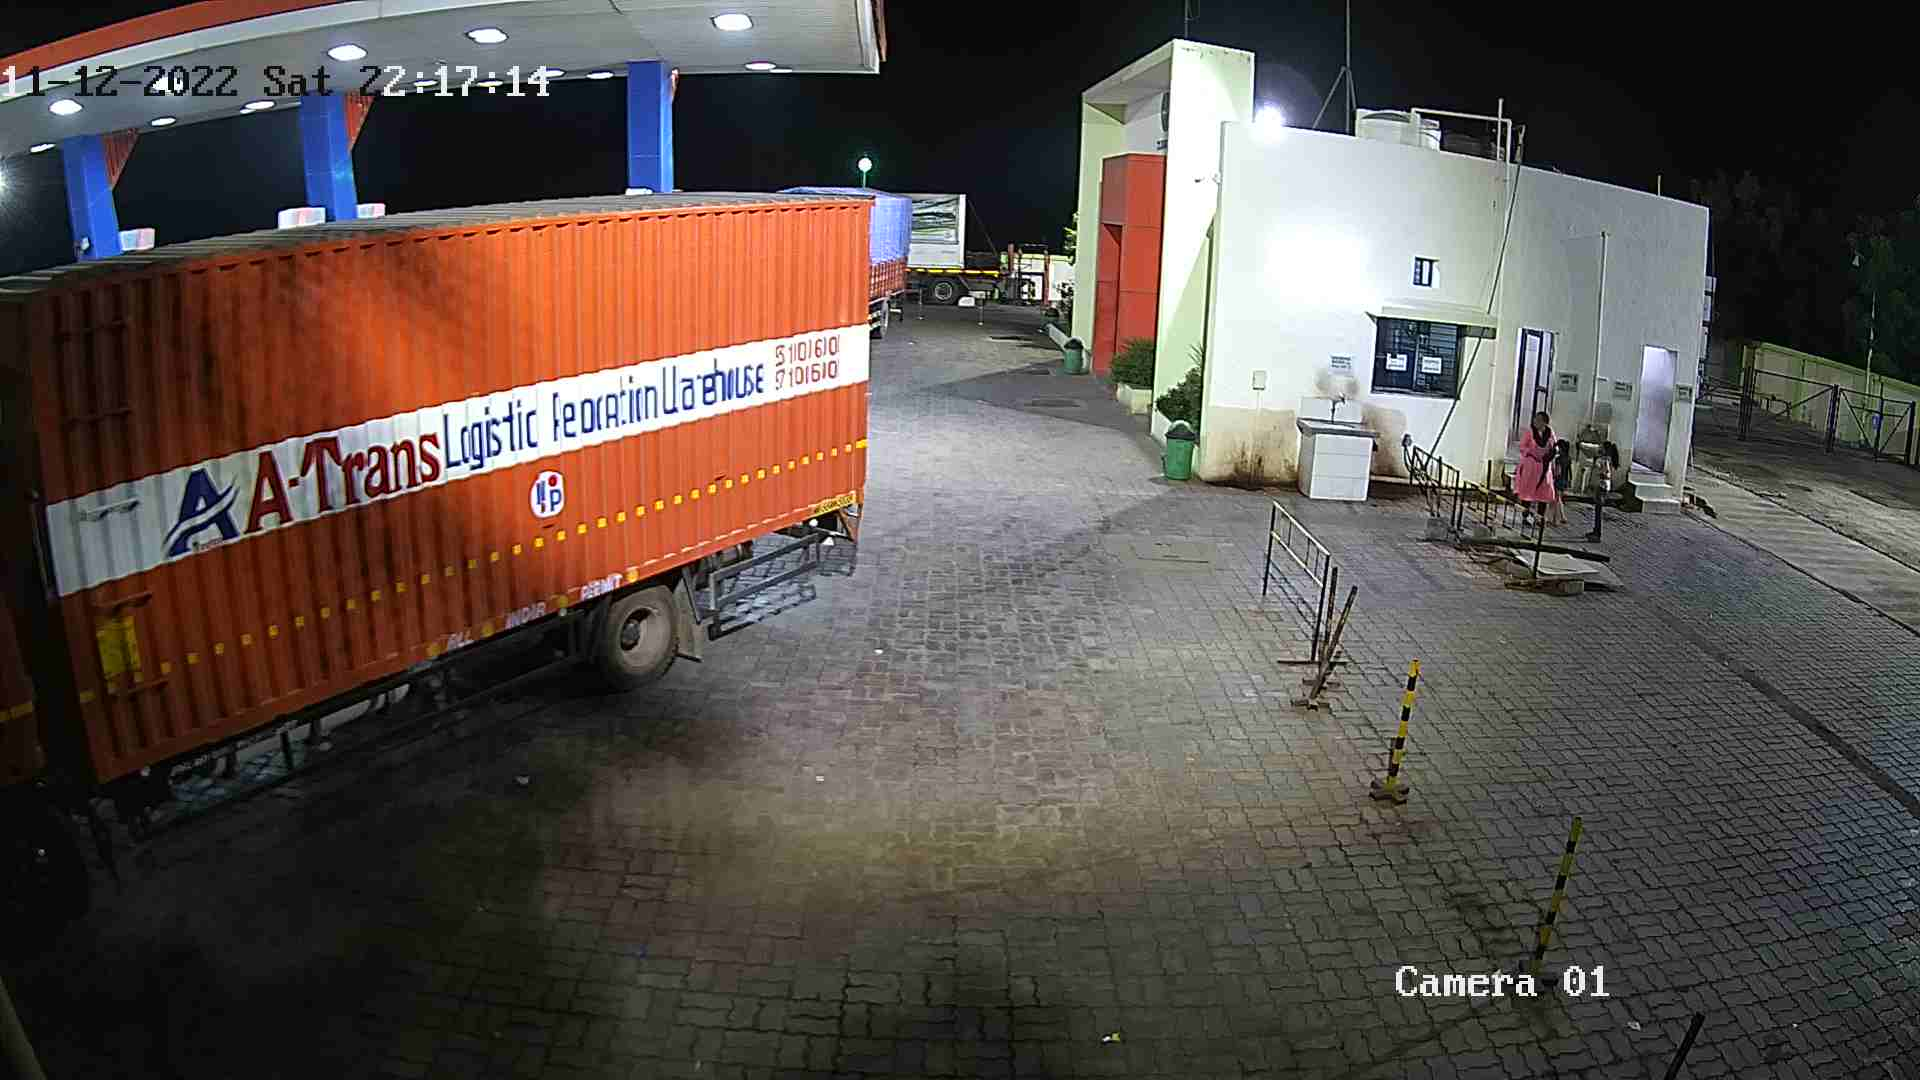HMV: (0, 175, 891, 940), (775, 177, 916, 344), (898, 187, 1050, 307)
